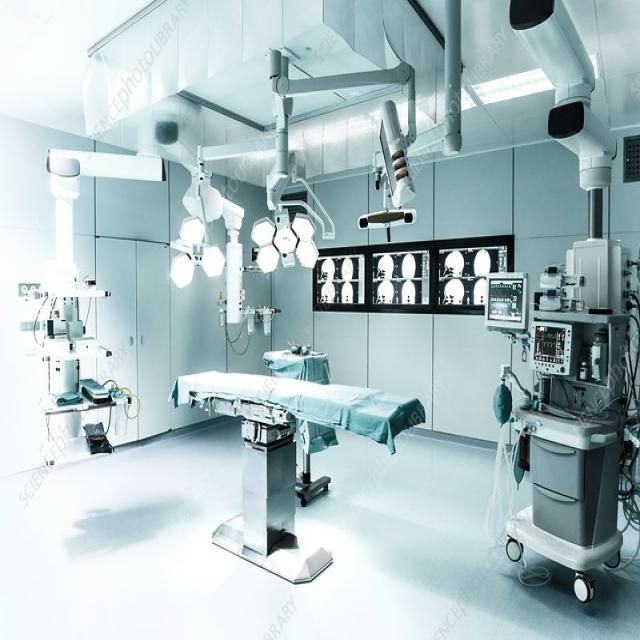cardiac_monitor: (319, 240, 515, 317)
lightings: (169, 212, 236, 309), (245, 198, 328, 272)
patient_bed: (164, 358, 435, 476)
ventilator: (502, 281, 640, 605)
